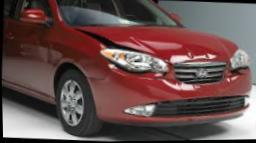Bonnet: (74, 26, 218, 63)
Light: (102, 49, 166, 75), (226, 49, 252, 75)
